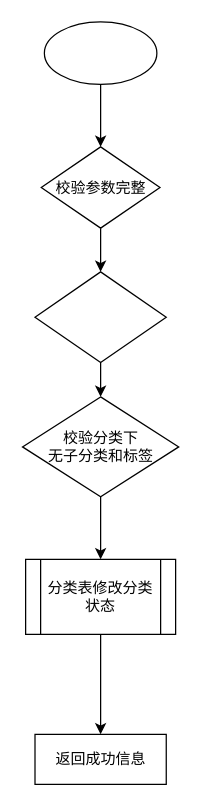
This 200x806 diagram has some shape labels left out. Each missing label, with the centre of its shape:
"标签分类删除" goes at [100,52].
"校验分类存在" goes at [100,316].
